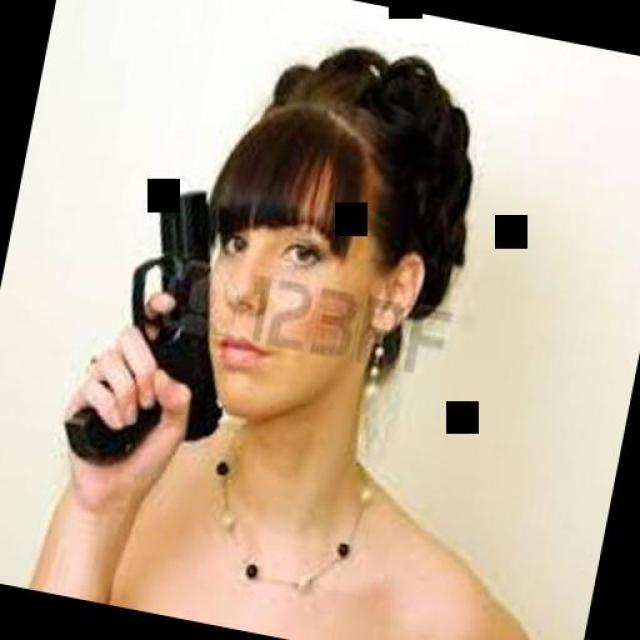gun: (60, 168, 265, 488)
